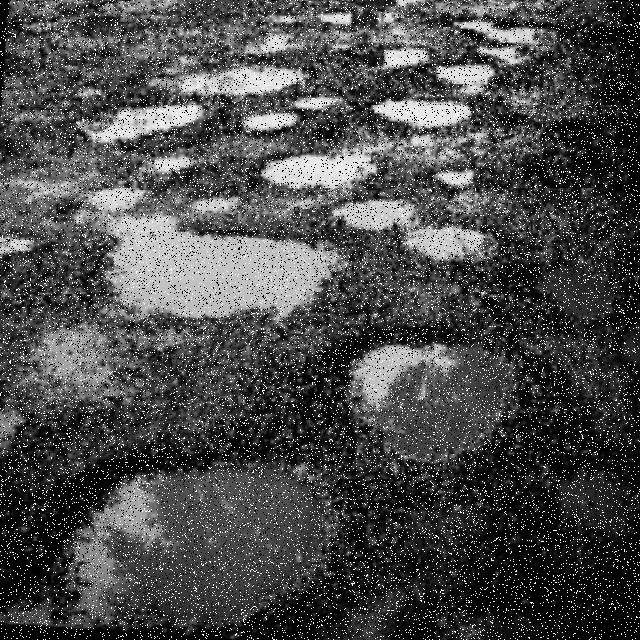pothole: (59, 462, 326, 630), (59, 189, 336, 320), (344, 340, 517, 460), (333, 200, 483, 261), (261, 149, 384, 193), (558, 472, 638, 539), (437, 609, 606, 640), (152, 67, 310, 99), (85, 105, 205, 147), (541, 264, 616, 323), (445, 19, 537, 64), (373, 101, 472, 129), (357, 43, 435, 70), (435, 66, 496, 96), (242, 110, 302, 136), (191, 195, 240, 221), (146, 155, 197, 176), (435, 168, 475, 189), (0, 237, 35, 259), (622, 326, 640, 365), (294, 96, 342, 110), (0, 405, 13, 451)
